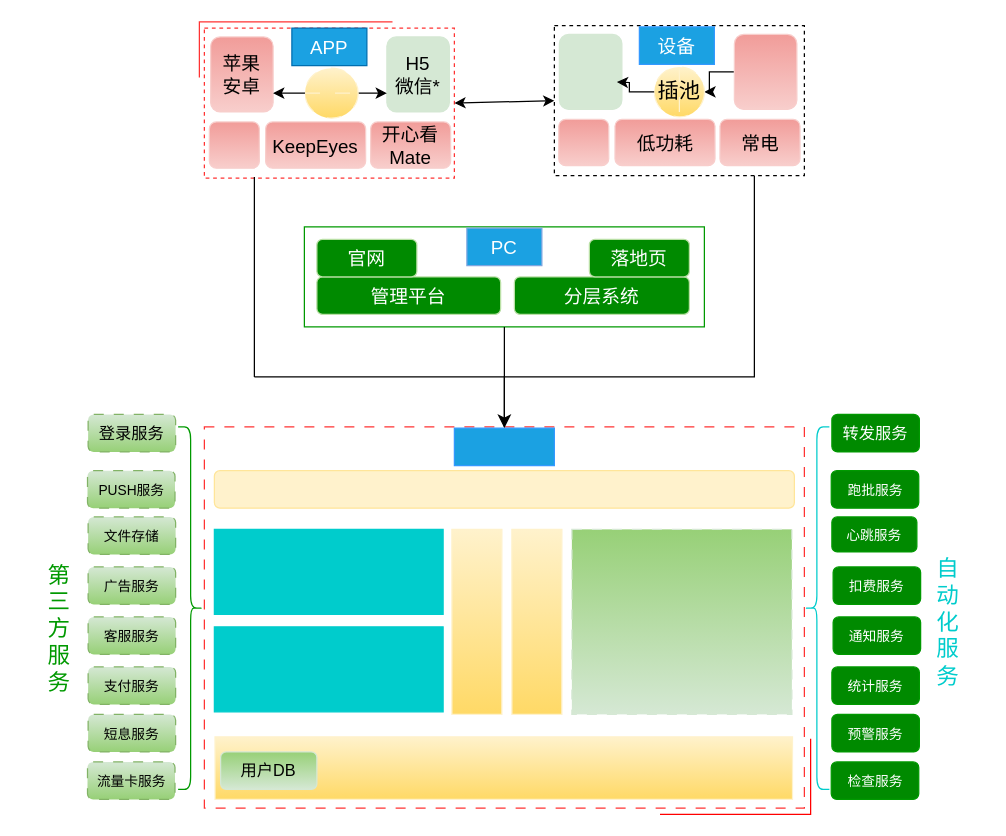
The diagram is 1006 pixels wide and 836 high, and some of its shapes have lost their labels. The box of each missing label's shape, as (x1, y1, x2, y2) in pixels:
4G: (558, 118, 609, 166)
Edge Gateway (LB) / WAF: (213, 469, 794, 508)
云服务支撑: (453, 427, 554, 466)
内 外: (304, 67, 358, 118)
千鸟物联: (208, 121, 259, 168)
有线 无线: (733, 33, 797, 109)
移动 电信 联通: (558, 33, 622, 109)
